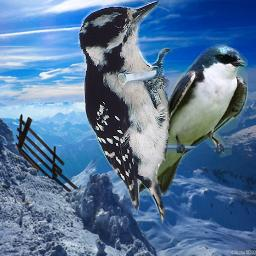Swallow: (131, 44, 248, 196)
Woodpecker: (78, 1, 176, 225)
